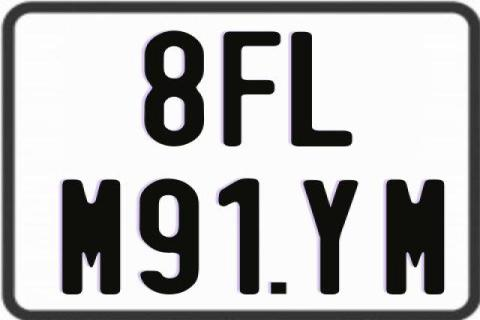0: (144, 28, 206, 147), (140, 178, 200, 296), (216, 176, 260, 294)
F: (224, 31, 286, 151)
L: (289, 31, 356, 147)
M: (384, 177, 446, 295), (61, 178, 120, 298)
Y: (303, 180, 364, 297)
